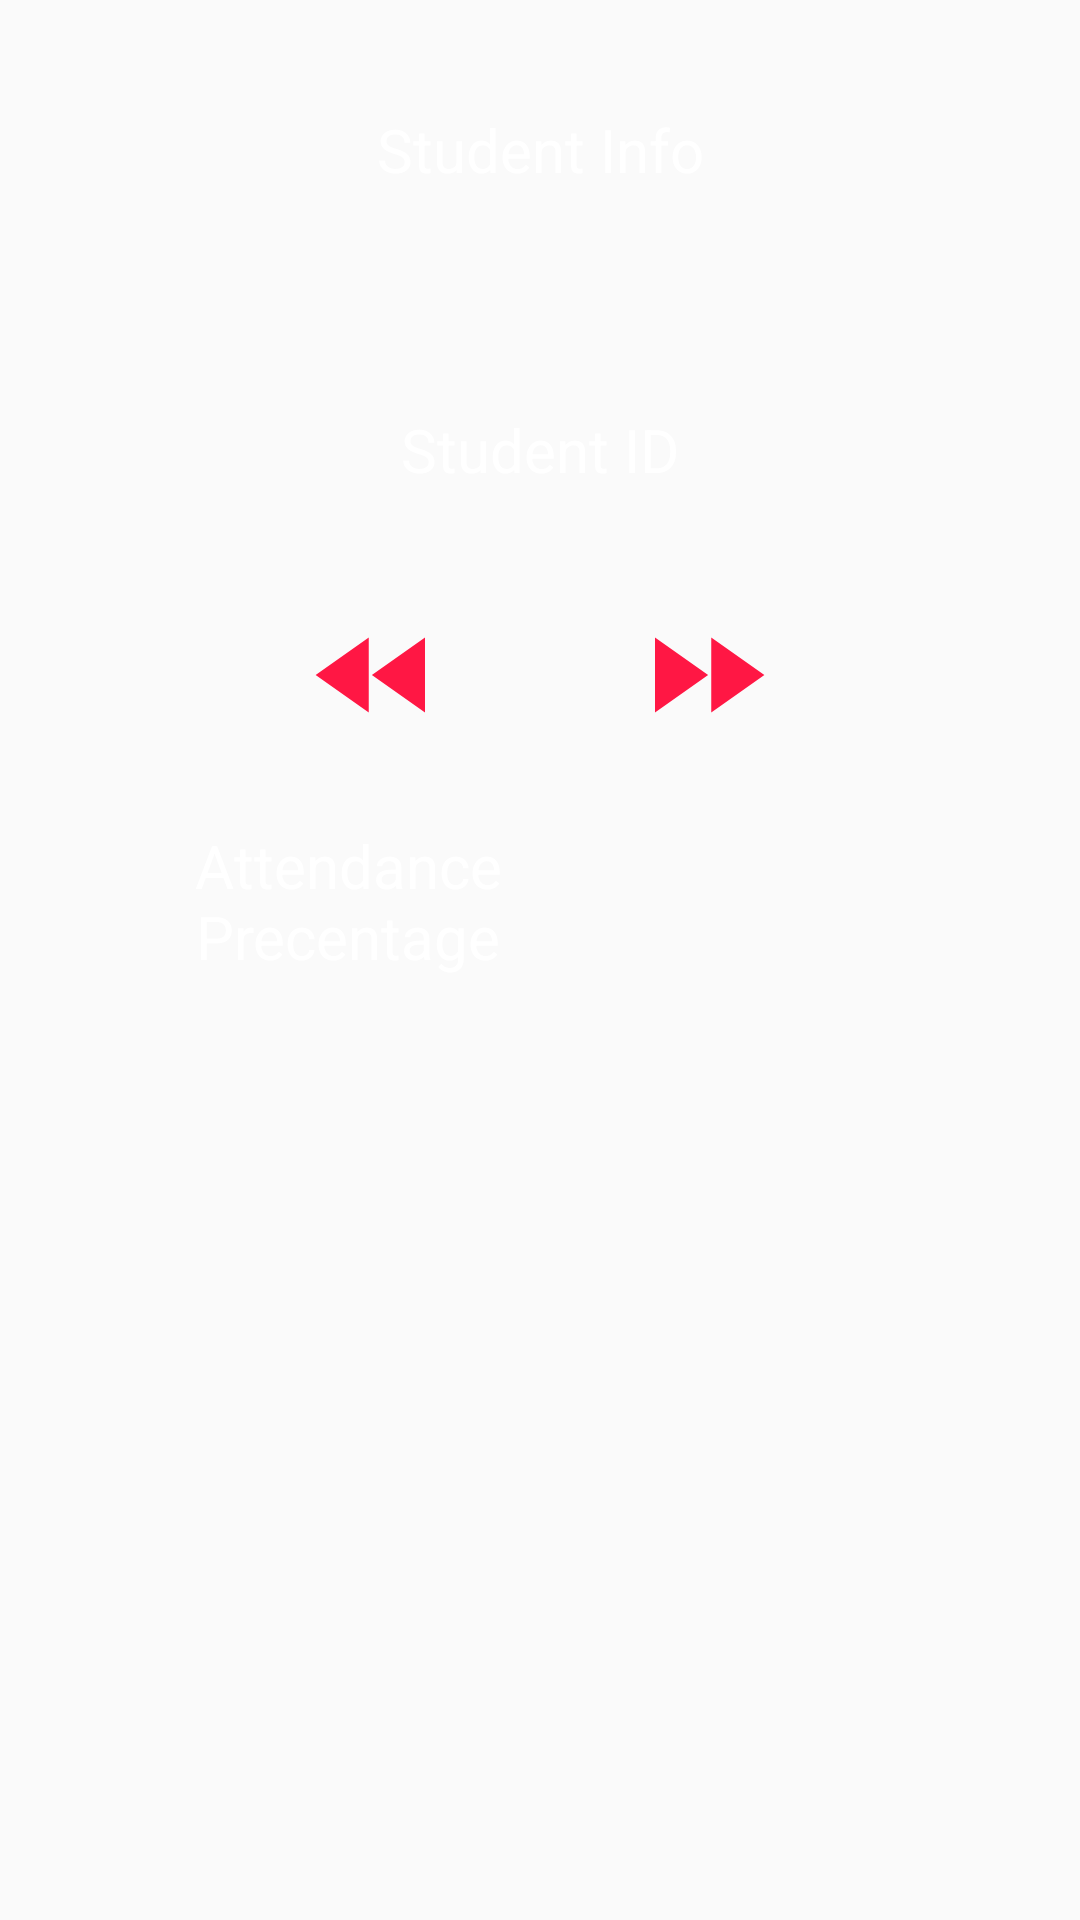

Icon bounding boxes for this 1080px×1920px phone screenshot, format (x1, y1, x2, y2):
back: (316, 637, 425, 713)
next: (655, 637, 764, 713)
